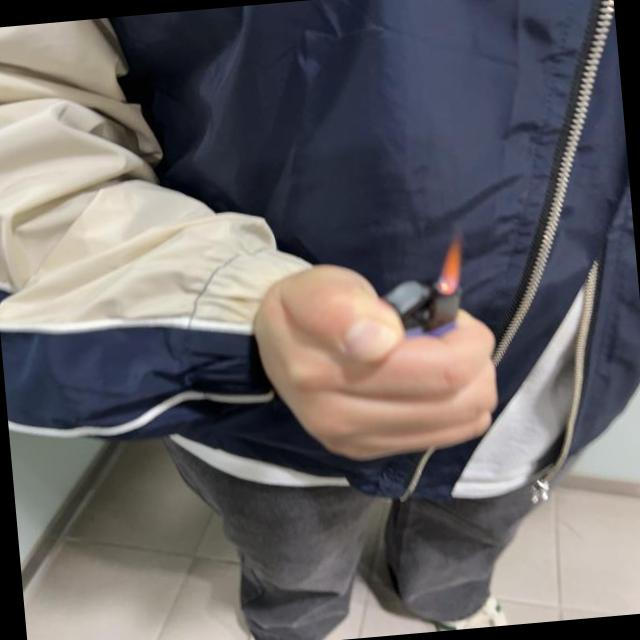Fire: (431, 234, 467, 295)
